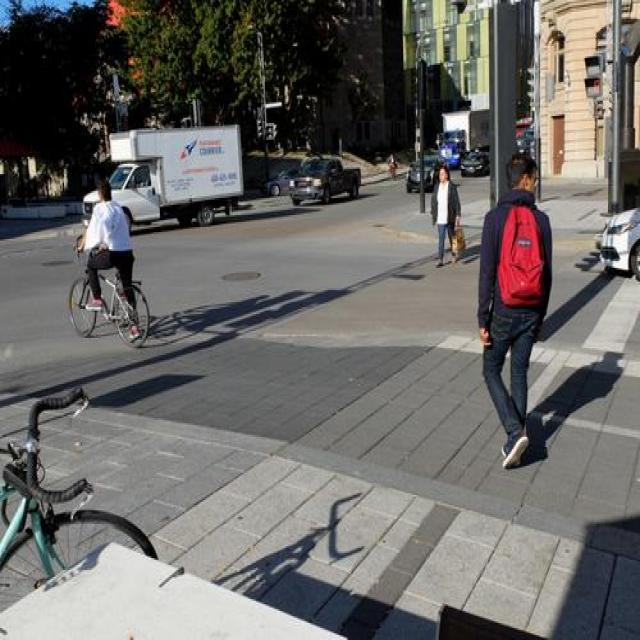bikerider: (69, 176, 152, 350)
